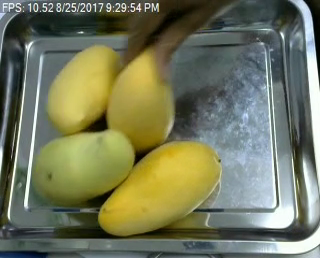Mango: (97, 138, 222, 236), (105, 43, 176, 154), (32, 131, 132, 206), (46, 44, 120, 134)
